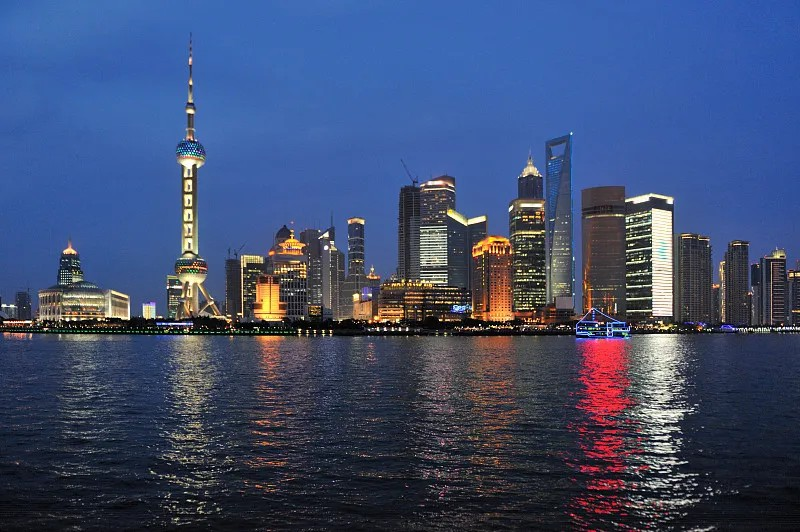Oriental: (174, 34, 222, 319)
